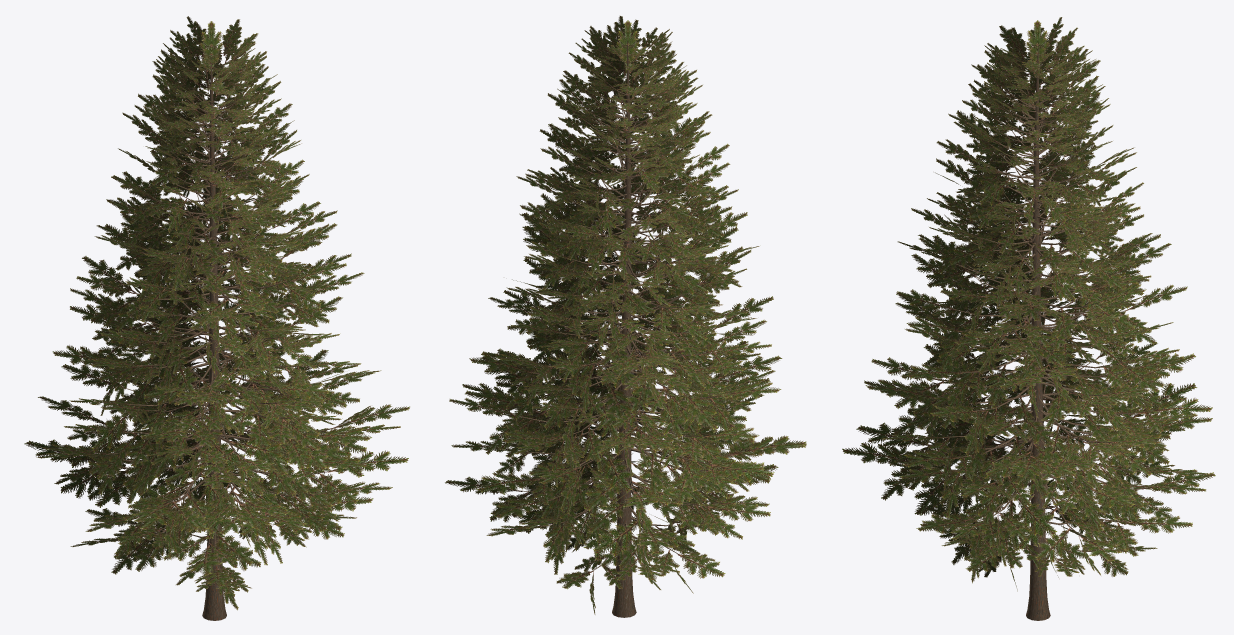
The model's file is fir_small_b_lod0.gltf.
3 views of the same model, side by side, from view 1: azimuth 30°, elevation 25°; view 2: azimuth 150°, elevation 25°; view 3: azimuth 270°, elevation 25° (orthographic).
Visible parts, largest first — view 1: fir_small_b_LOD0; view 2: fir_small_b_LOD0; view 3: fir_small_b_LOD0.
Part boxes in pixels (left/top/right/bottom): fir_small_b_LOD0: left=24, top=16, right=409, bottom=620; fir_small_b_LOD0: left=445, top=16, right=806, bottom=617; fir_small_b_LOD0: left=842, top=17, right=1215, bottom=620.
Bounding box in the file's own units: 8.47 × 14.4 × 8.36.
2 materials, 2 textured.
